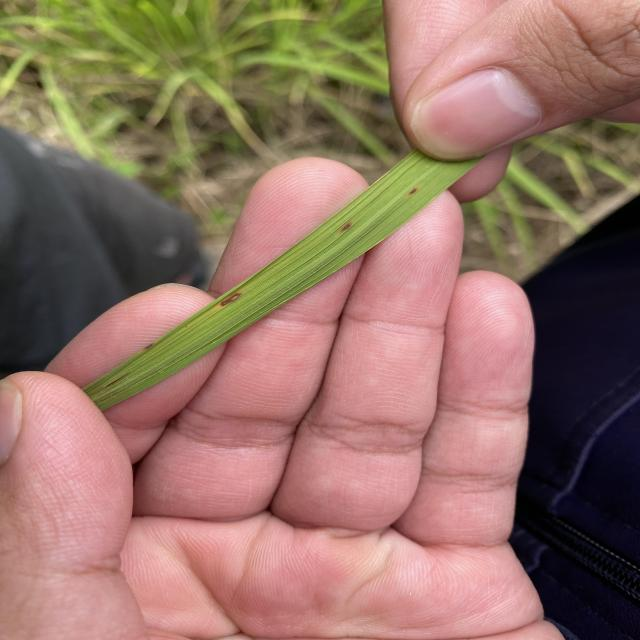Dom nau: (105, 371, 132, 386), (219, 292, 244, 308), (341, 223, 351, 232), (406, 188, 418, 195), (144, 342, 154, 349)
